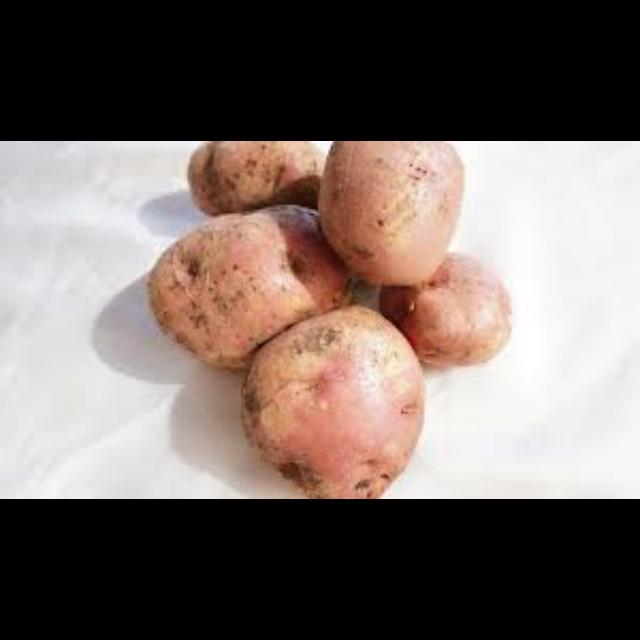Diseased-fungal potato: (140, 202, 370, 372), (238, 302, 428, 500), (312, 142, 466, 290), (374, 250, 516, 372), (180, 142, 336, 230)
